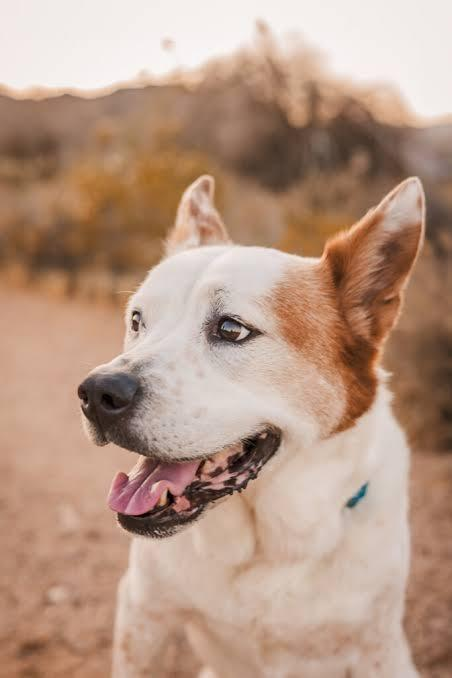adult_dog: (72, 173, 429, 678)
